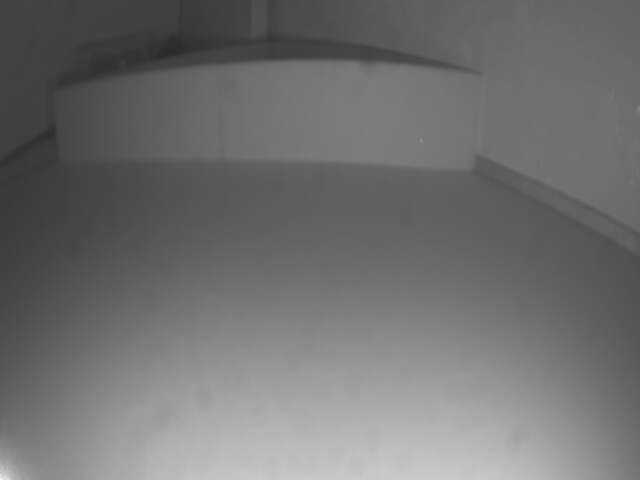Red: (53, 64, 482, 174)
